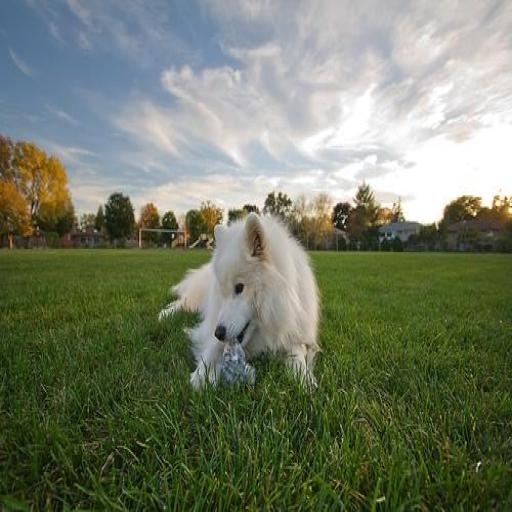dog_face: (209, 220, 267, 346)
